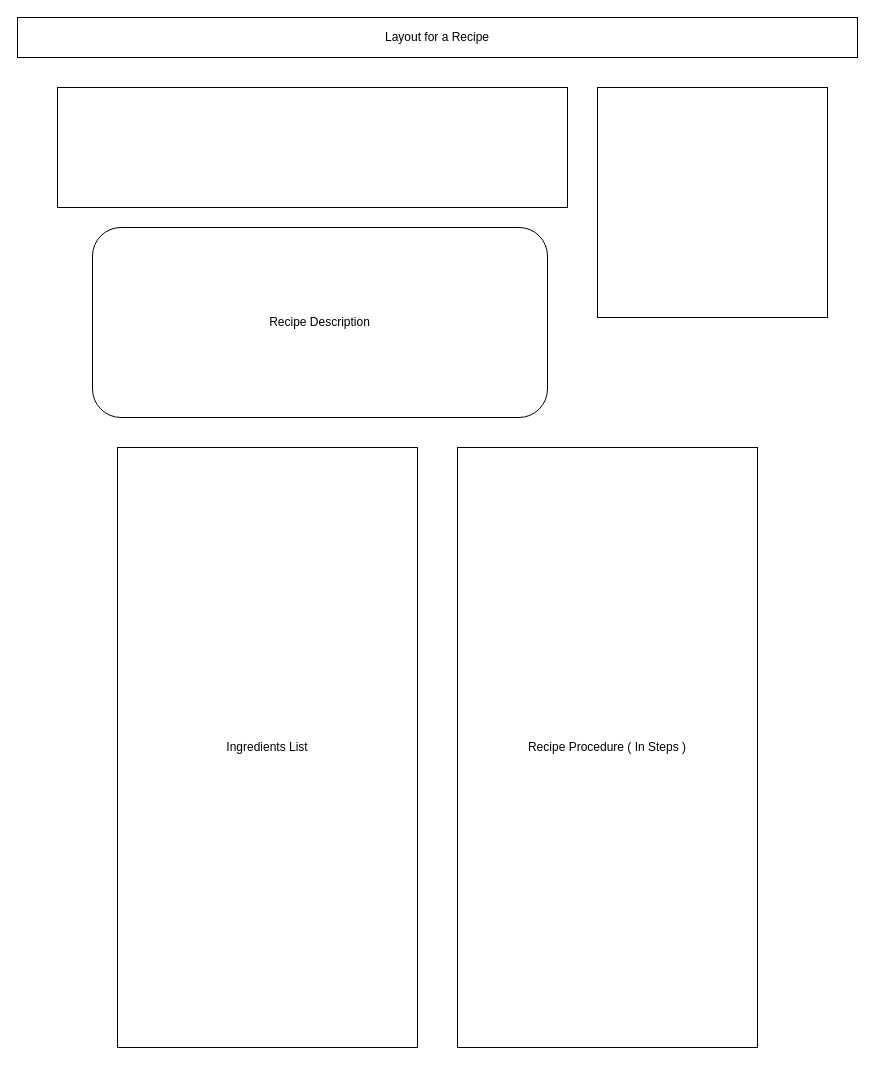
The diagram is 875 pixels wide and 1065 high, and some of its shapes have lost their labels. Each missing label, with the box of its shape:
Recipe Image: (596, 86, 828, 318)
Recipe Title: (56, 86, 568, 208)
